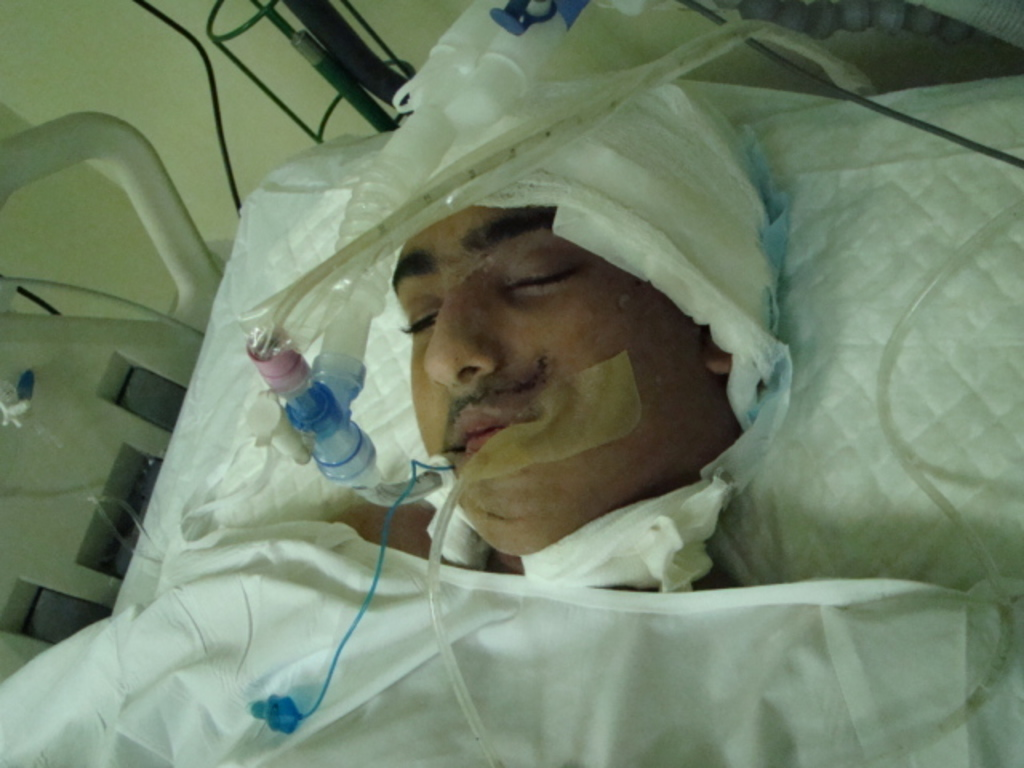Person: (327, 68, 796, 590)
